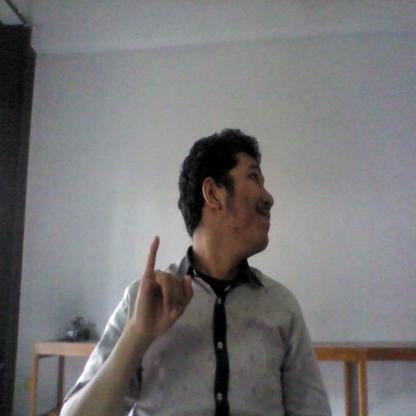I: (132, 228, 194, 346)
